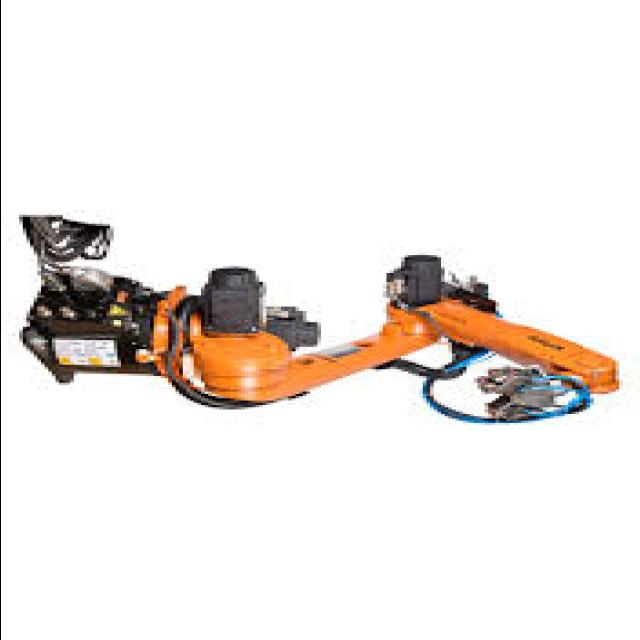Robotic-arm: (8, 203, 632, 435)
